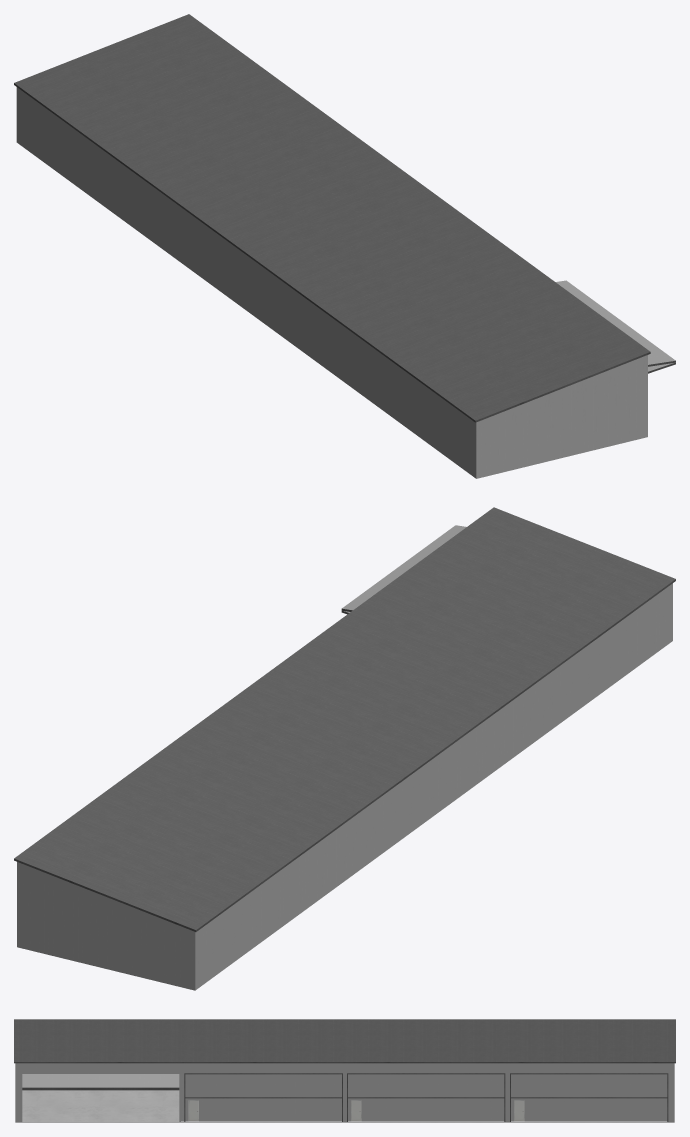
File: gen_open_hangar07-65x14x5-cbj_LOD04.gltf
3 views of the same model, one above another, from view 1: azimuth 30°, elevation 25°; view 2: azimuth 150°, elevation 25°; view 3: azimuth 270°, elevation 25° (orthographic). The views are drawn at different scales.
Parts seen in each view (by area): view 1: Cube.017; view 2: Cube.017; view 3: Cube.017.
Part boxes in pixels (bbox=[...]): Cube.017: bbox=[14, 14, 675, 478]; Cube.017: bbox=[14, 507, 675, 990]; Cube.017: bbox=[14, 1019, 675, 1122].
Size of the model in its own units: 16.84 by 6.68 by 65.28.
